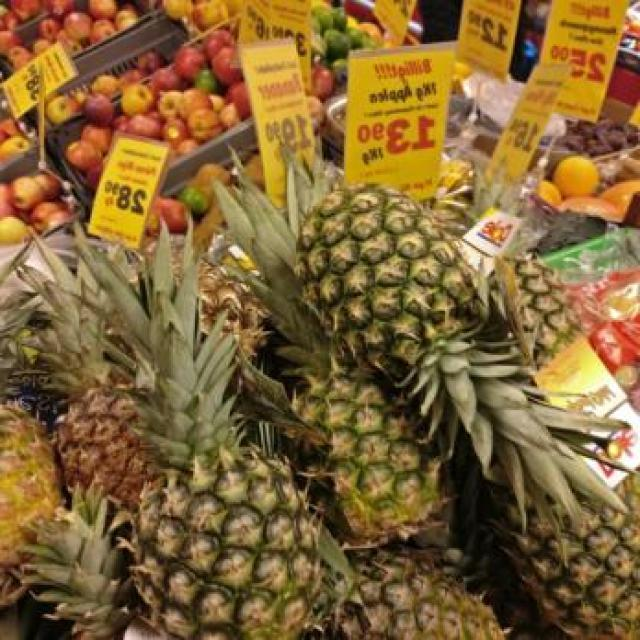pineapple: (301, 185, 618, 521), (110, 269, 328, 640), (220, 181, 440, 539), (39, 285, 154, 509), (502, 509, 640, 639), (331, 542, 505, 639), (25, 489, 131, 640), (0, 405, 60, 564), (500, 255, 581, 368)
